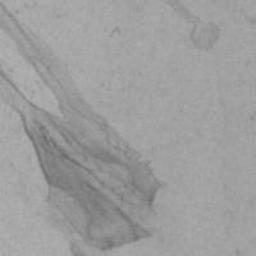Water spot: (0, 0, 170, 256), (157, 0, 221, 51)
